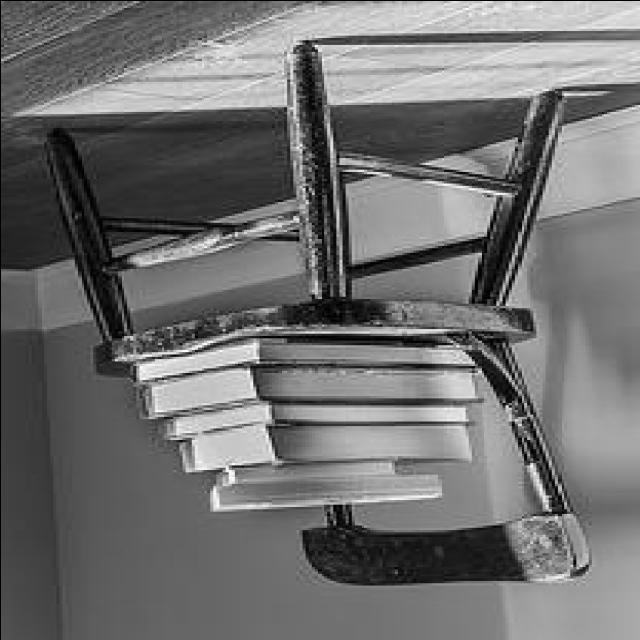chair: (50, 40, 600, 584)
